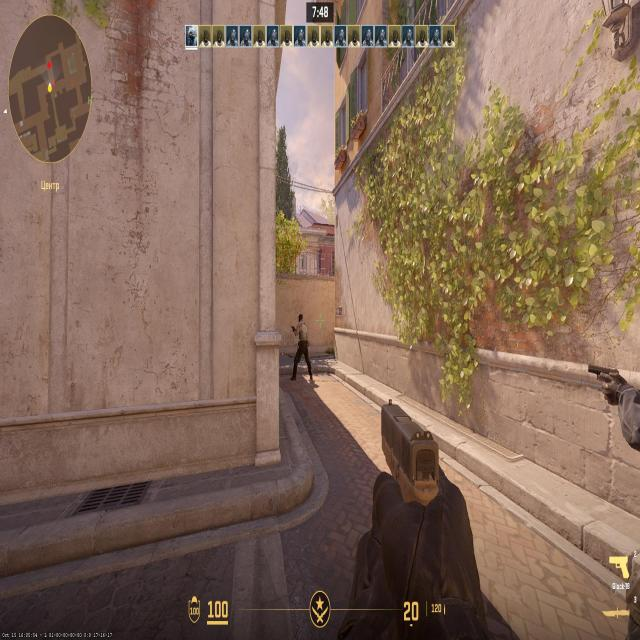T: (298, 312, 312, 377)
T_heat: (299, 314, 301, 323)
